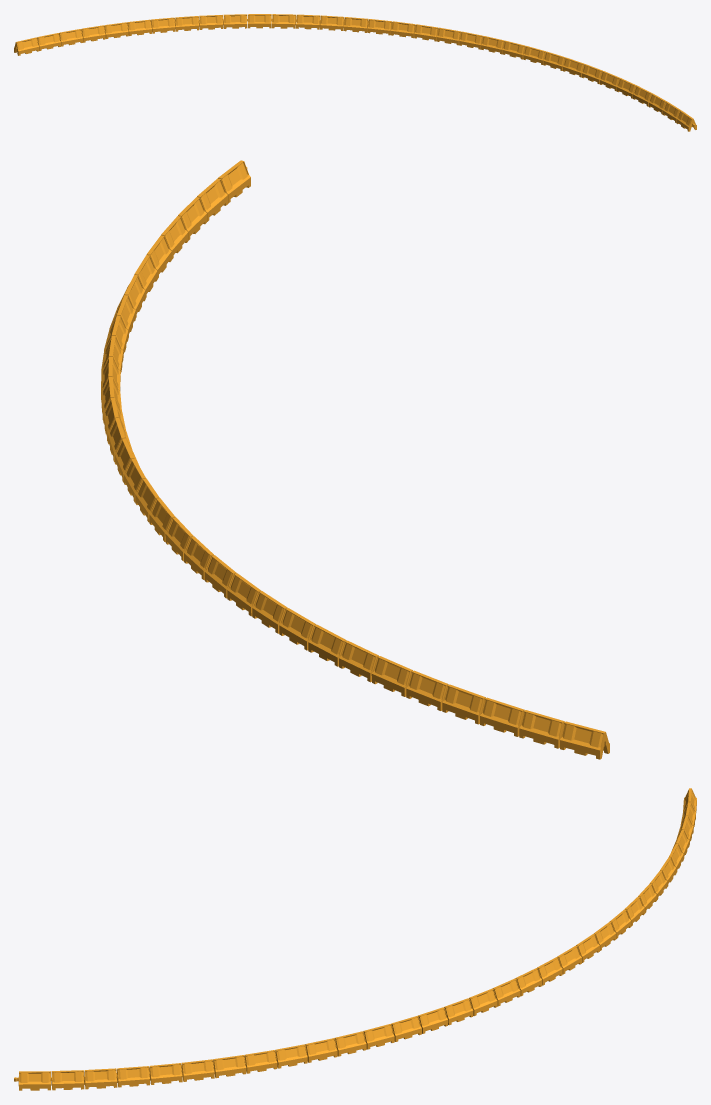
File: SM_Fence_Road_Plastic_Unicolor_20m_Corner_Outer.fbx
The picture shows the model from 3 angles, top to bottom: view 1: azimuth 30°, elevation 25°; view 2: azimuth 150°, elevation 25°; view 3: azimuth 270°, elevation 25°; orthographic projection. The views are drawn at different scales.
Parts seen in each view (by area): view 1: SM_Fence_Road_Plastic_Unicolor_20m_Corner_Outer; view 2: SM_Fence_Road_Plastic_Unicolor_20m_Corner_Outer; view 3: SM_Fence_Road_Plastic_Unicolor_20m_Corner_Outer.
Part boxes in pixels (x1,y1,x2,y2): SM_Fence_Road_Plastic_Unicolor_20m_Corner_Outer: (14, 14, 696, 131); SM_Fence_Road_Plastic_Unicolor_20m_Corner_Outer: (101, 160, 609, 759); SM_Fence_Road_Plastic_Unicolor_20m_Corner_Outer: (14, 788, 696, 1090).
Size of the model in its own units: 20.97 by 0.5457 by 21.13.
